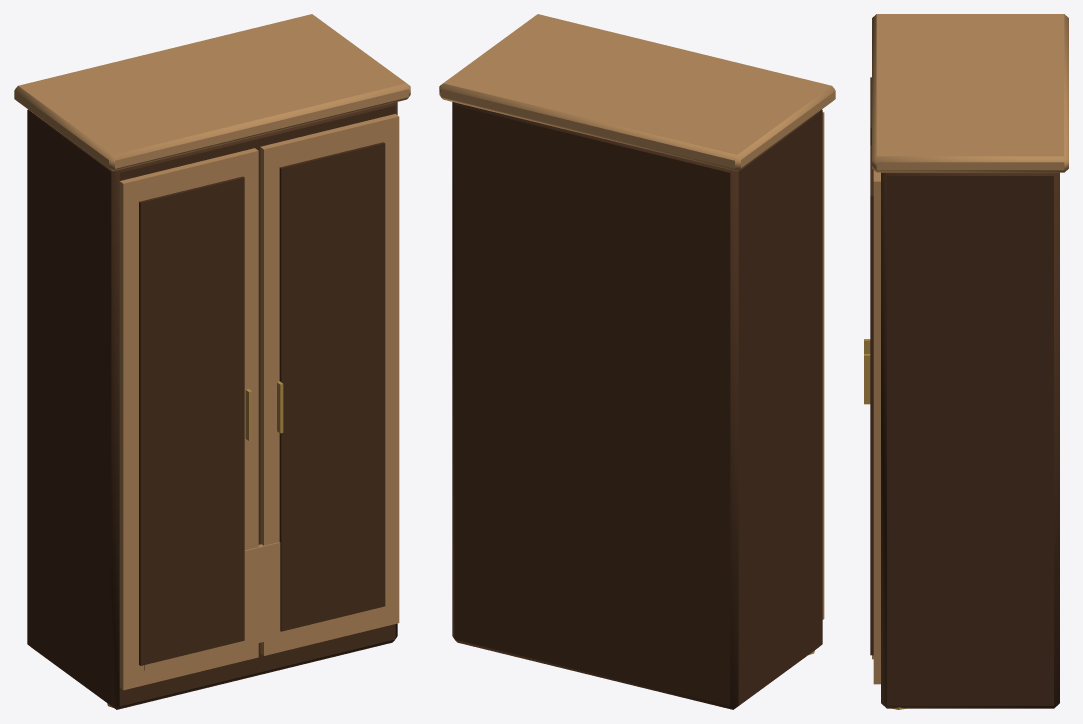
Rendered from locker_wardrobe.glb.
3 views of the same model, side by side, from view 1: azimuth 30°, elevation 25°; view 2: azimuth 150°, elevation 25°; view 3: azimuth 270°, elevation 25° (orthographic).
Parts seen in each view (by area): view 1: locker_wardrobe; view 2: locker_wardrobe; view 3: locker_wardrobe.
Boxes of the visible parts, x1,y1,x2,y2 form: locker_wardrobe: (14, 14, 410, 709); locker_wardrobe: (439, 14, 835, 709); locker_wardrobe: (864, 14, 1068, 709).
Bounding box in the file's own units: 1.16 × 2.06 × 0.687.
